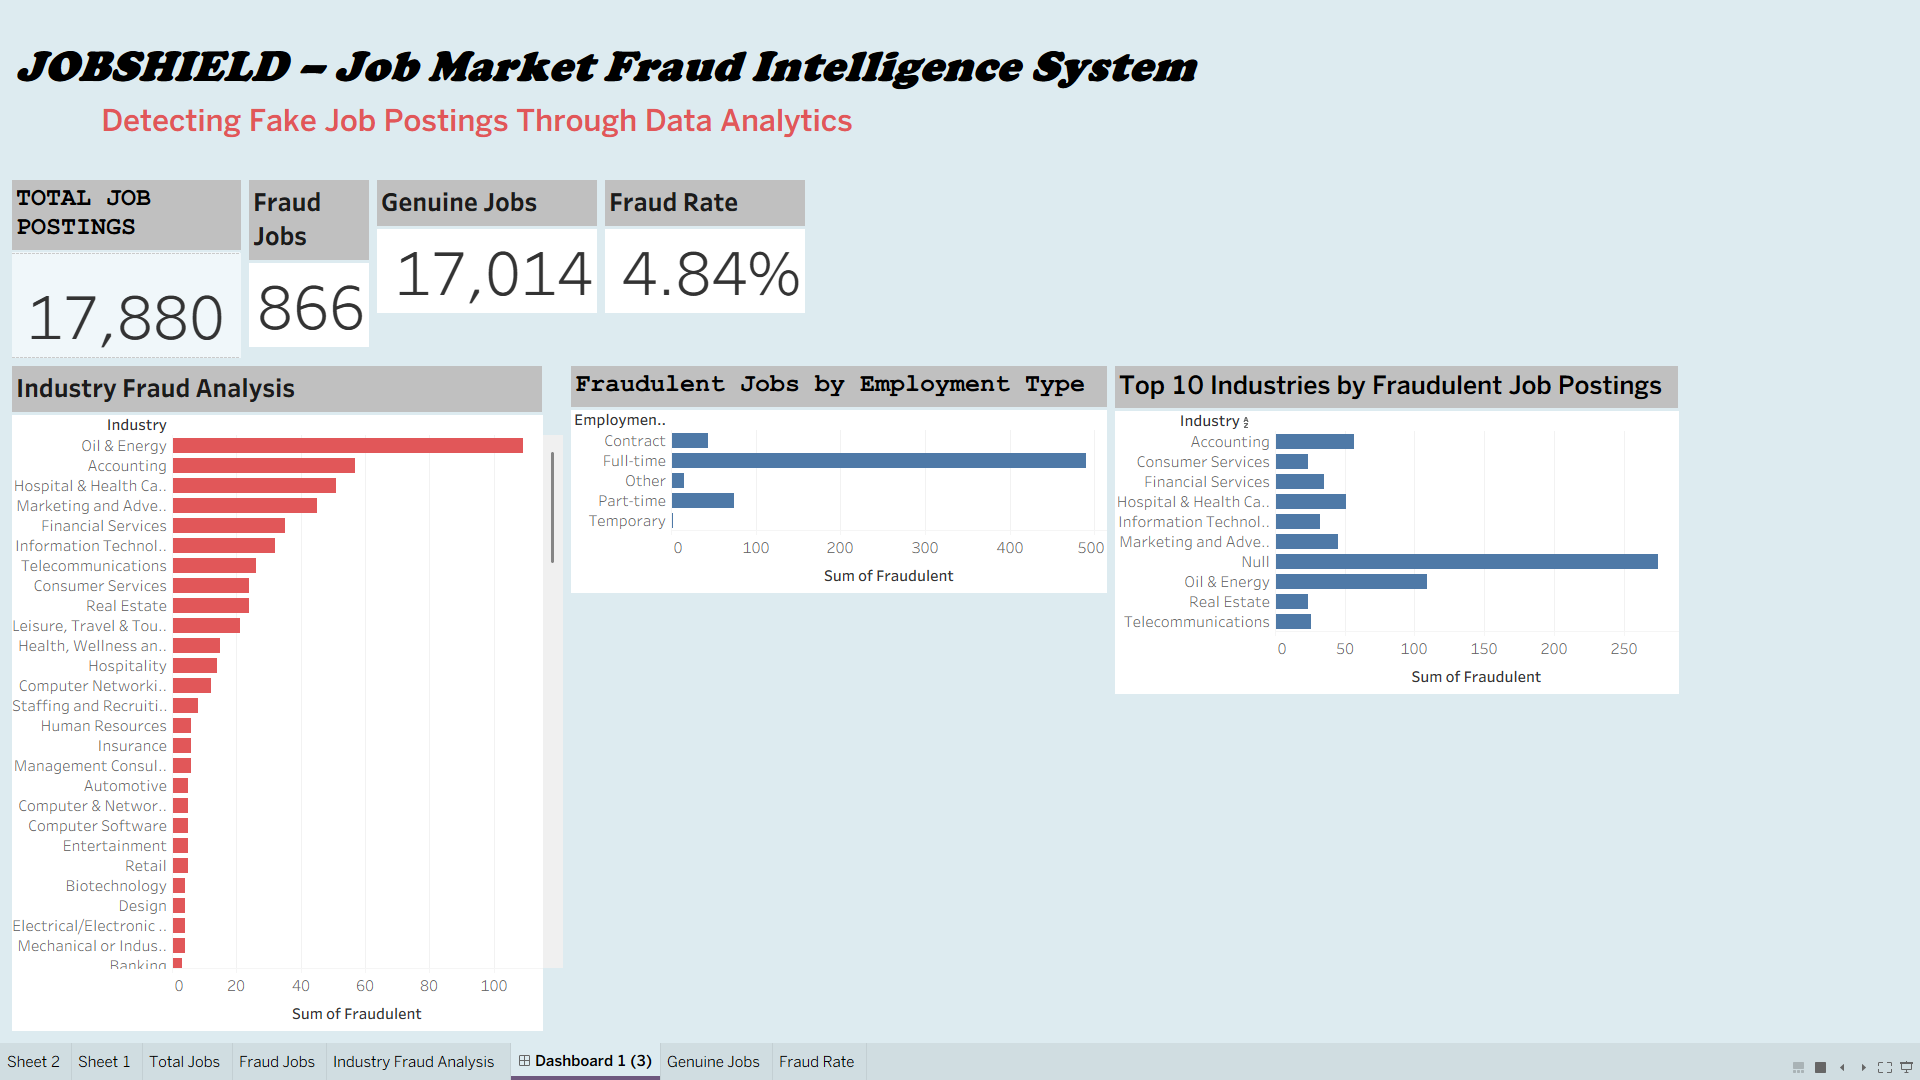

The page's visual inventory and layout, read from the dashboard file:
{"tool":"tableau","page":{"name":"Dashboard 1 (3)","canvas":[1000,1000],"units":"permille","ordinal":0},"visuals":[{"type":"text","box":[4.8,9.4,990.3,161]},{"type":"worksheet","title":"Total Jobs","mark":"Text","box":[4.8,170.4,143,218.6]},{"type":"worksheet","title":"Fraud Jobs","mark":"Text","box":[147.9,170.4,77.2,218.6]},{"type":"worksheet","title":"Genuine Jobs","mark":"Automatic","box":[225.1,170.4,137.6,218.6]},{"type":"worksheet","title":"Fraud Rate","mark":"Automatic","box":[362.7,170.4,125.5,218.6]},{"type":"worksheet","title":"Industry Fraud Analysis","mark":"Automatic","rows":["industry"],"cols":["fraudulent"],"box":[4.8,388.9,331,601.7]},{"type":"worksheet","title":"Sheet 2","mark":"Automatic","rows":["employment_type"],"cols":["fraudulent"],"box":[335.8,388.9,328.3,601.7]},{"type":"worksheet","title":"Sheet 1","mark":"Automatic","rows":["industry"],"cols":["fraudulent"],"box":[664.1,388.9,331,601.7]}]}

Visuals, with their boxes on the dashboard's canvas, which has no fixed pixel size, in thousandths of its width and height (x1, y1, x2, y2). These are canvas units, not pixel positions in the 1920x1080 screenshot, which may show the page scaled, cropped or inside an application window:
text: {"x1": 5, "y1": 9, "x2": 995, "y2": 170}
"Total Jobs" worksheet (Text marks): {"x1": 5, "y1": 170, "x2": 148, "y2": 389}
"Fraud Jobs" worksheet (Text marks): {"x1": 148, "y1": 170, "x2": 225, "y2": 389}
"Genuine Jobs" worksheet: {"x1": 225, "y1": 170, "x2": 363, "y2": 389}
"Fraud Rate" worksheet: {"x1": 363, "y1": 170, "x2": 488, "y2": 389}
"Industry Fraud Analysis" worksheet: {"x1": 5, "y1": 389, "x2": 336, "y2": 991}
"Sheet 2" worksheet: {"x1": 336, "y1": 389, "x2": 664, "y2": 991}
"Sheet 1" worksheet: {"x1": 664, "y1": 389, "x2": 995, "y2": 991}
